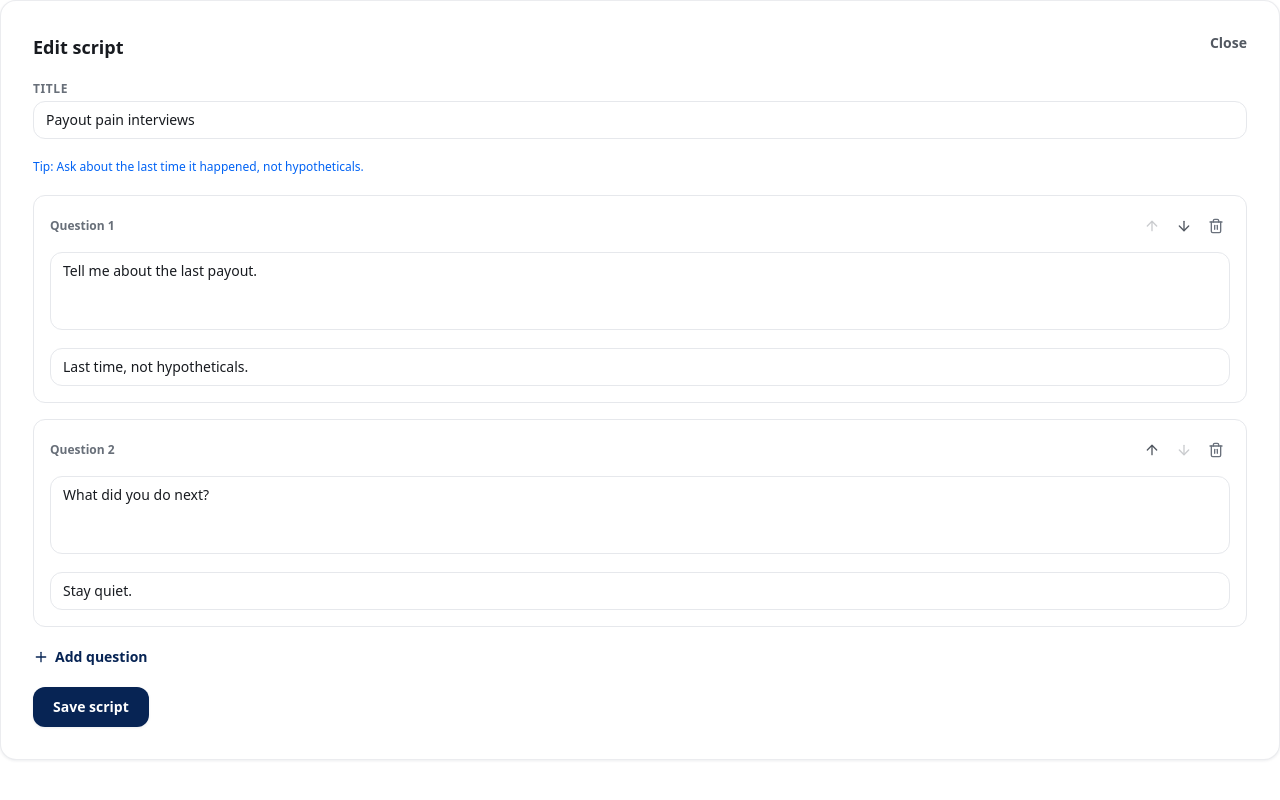
Test: ScriptEditor › blocks an empty list and shows the API 422 message inline
Click the button named "Remove question 1" at (1216, 226), box [1202,212,1230,240]
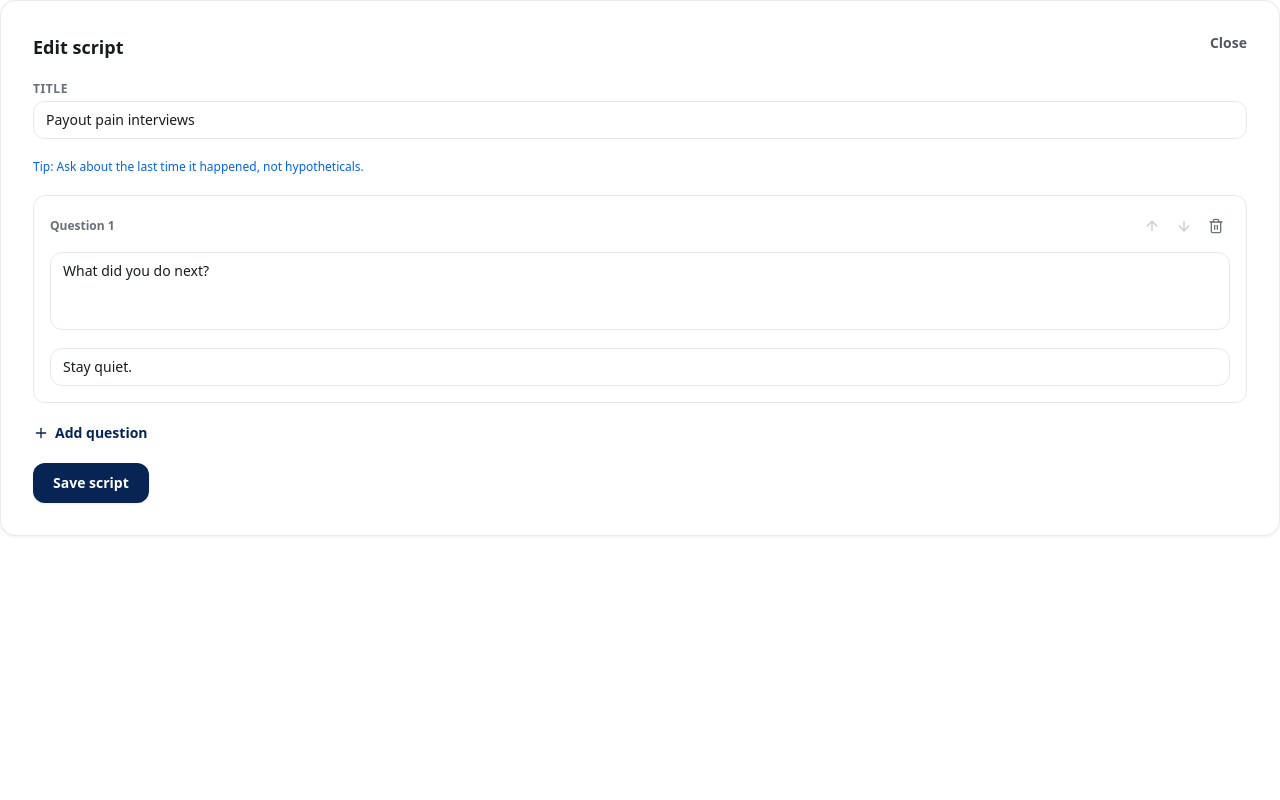
Click the button named "Remove question 1" at (1216, 226), box [1202,212,1230,240]
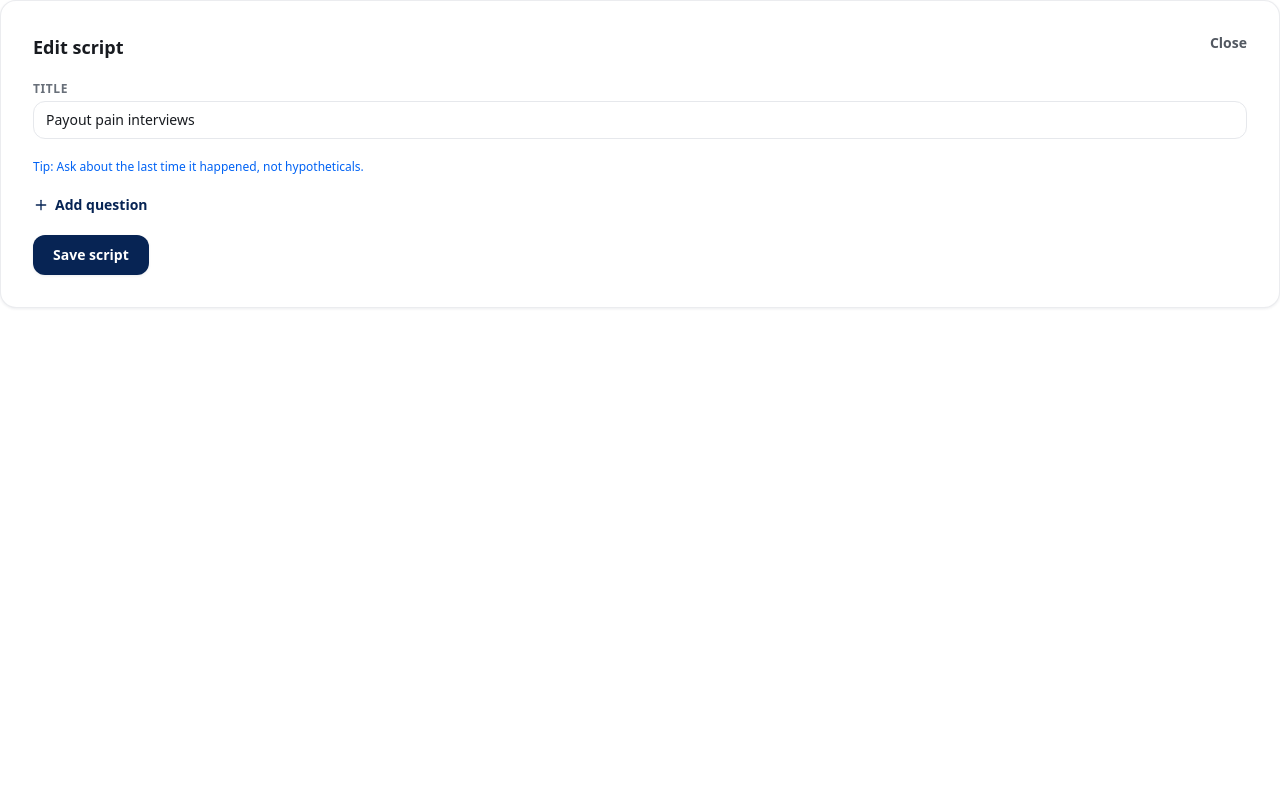
Click the button "Save script" at (91, 255), box [33,235,149,275]
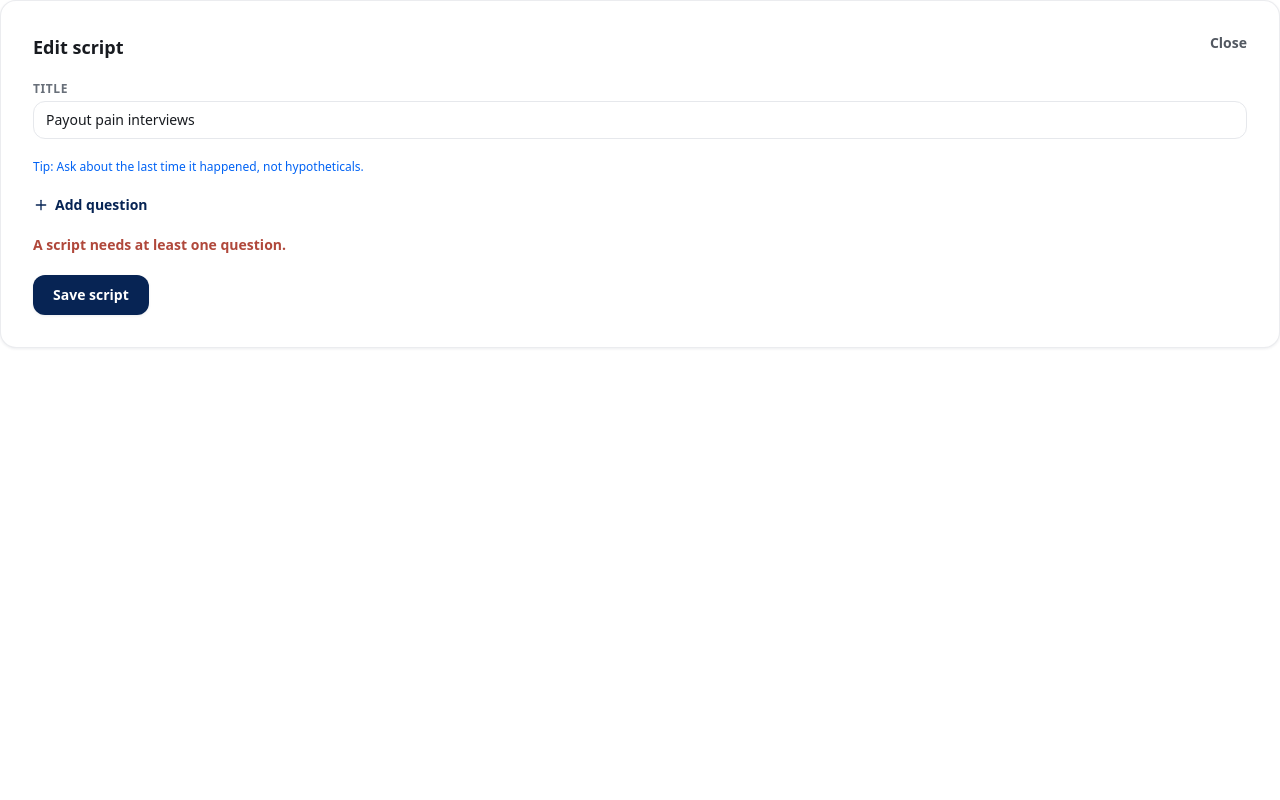
Check: the message reads "A script needs at least one question.", box [33,235,286,254]
Click the button "Add question" at (90, 205), box [33,195,148,215]
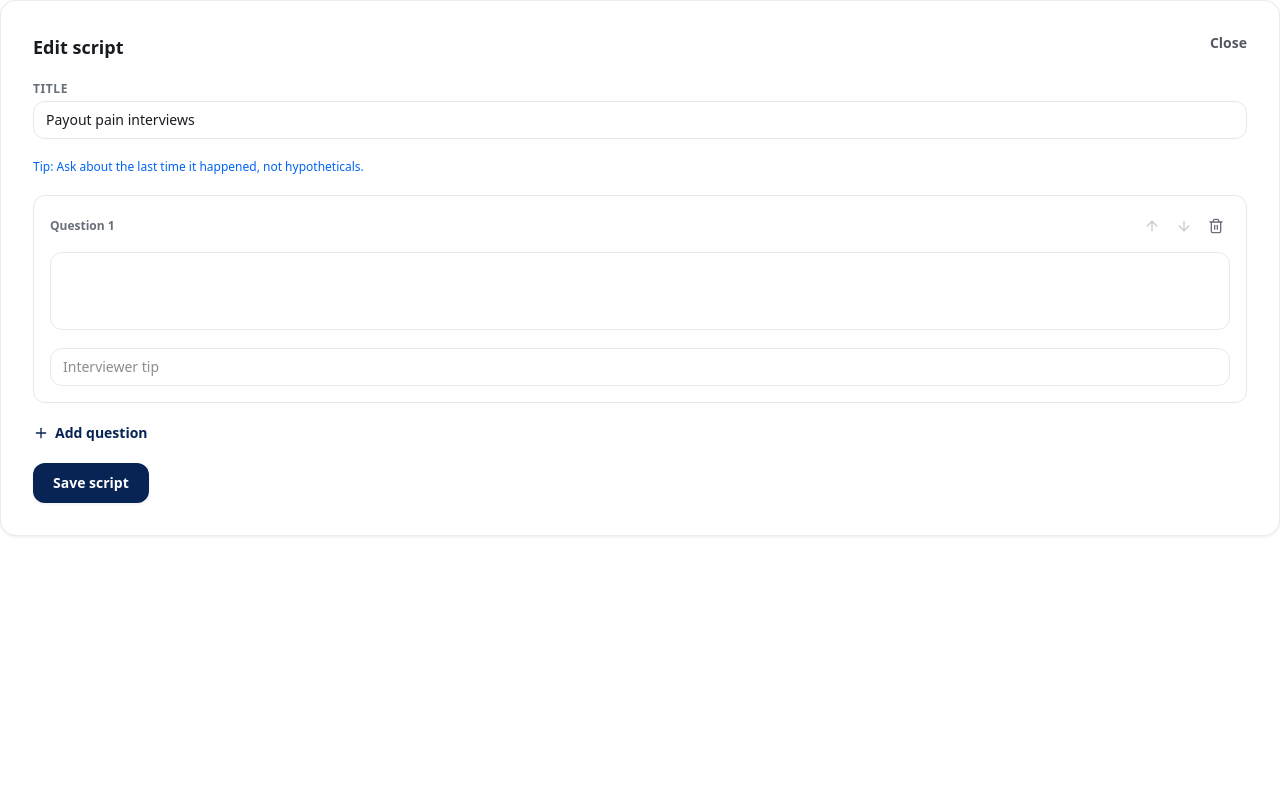
Type "x" into the text box named "Question 1 text" at (640, 291), box [50,252,1230,330]
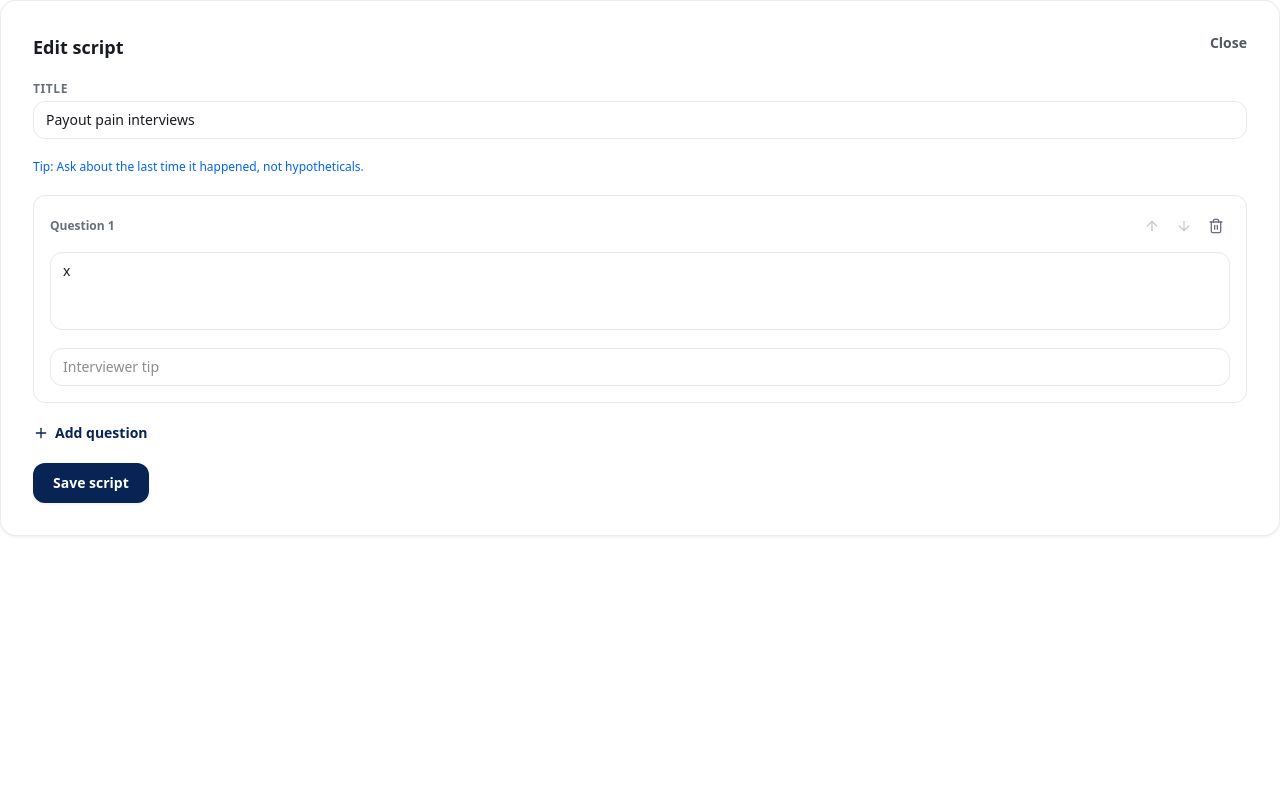
Click the button "Save script" at (91, 483), box [33,463,149,503]
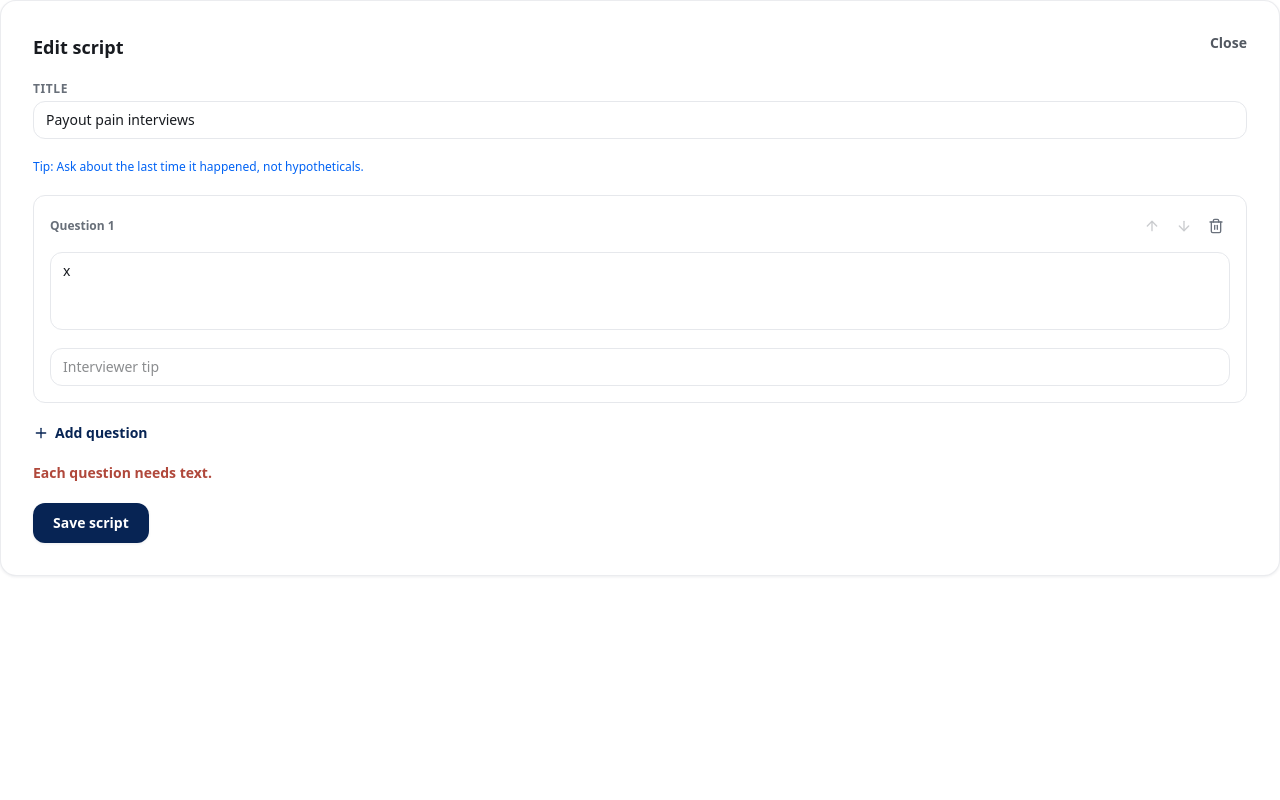
Check: the message reads "Each question needs text.", box [33,463,212,482]
